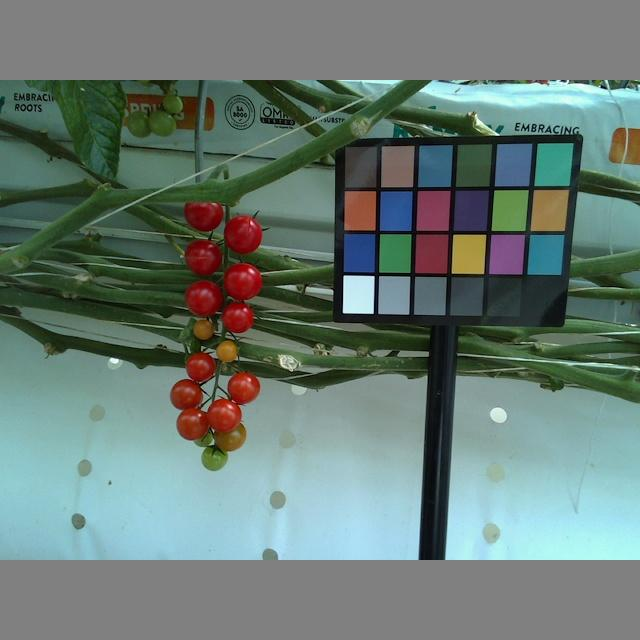green: (148, 108, 176, 139), (125, 110, 154, 139), (201, 447, 227, 473), (161, 92, 187, 116)
pink: (213, 423, 246, 454), (214, 339, 240, 362), (191, 318, 215, 340)
red: (221, 214, 264, 254), (182, 277, 222, 317), (183, 194, 224, 233), (223, 261, 263, 300), (184, 237, 222, 275), (173, 407, 211, 443), (205, 399, 242, 434), (226, 372, 260, 408), (221, 299, 256, 333), (183, 350, 217, 384), (170, 378, 203, 412)
